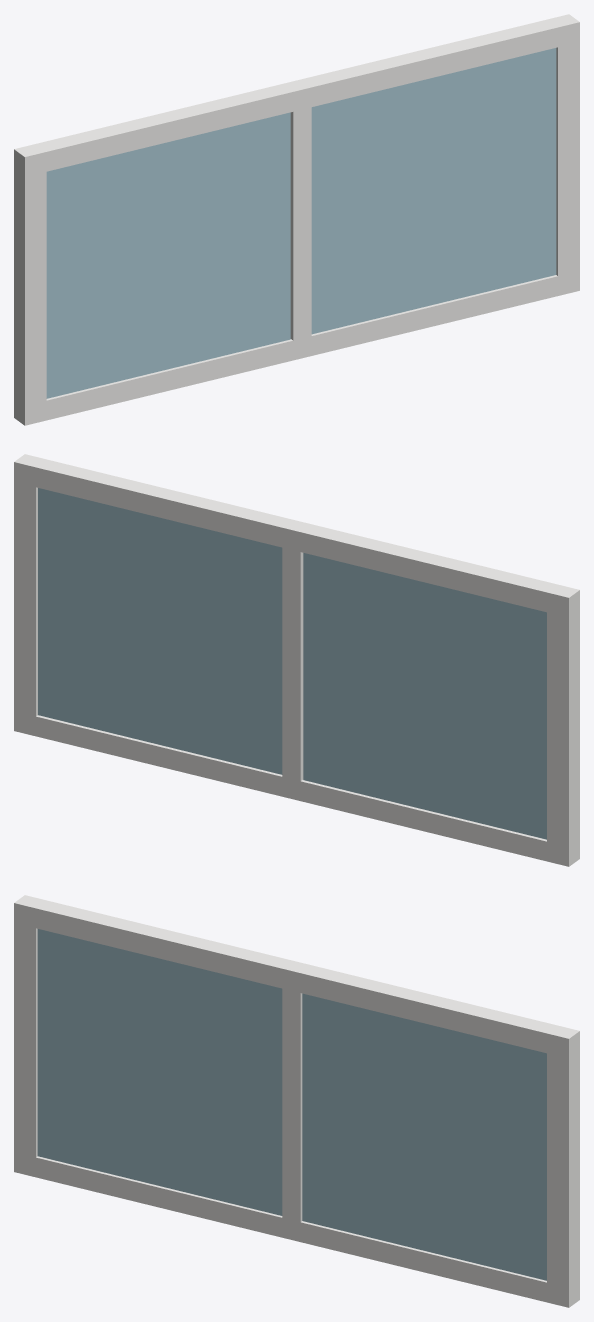
The model's file is Window_28.fbx.
The picture shows the model from 3 angles, top to bottom: view 1: azimuth 30°, elevation 25°; view 2: azimuth 150°, elevation 25°; view 3: azimuth 330°, elevation 25°; orthographic projection.
Visible parts, largest first — view 1: Window_28; view 2: Window_28; view 3: Window_28.
Part boxes in pixels (bbox=[...]): Window_28: bbox=[14, 14, 579, 425]; Window_28: bbox=[14, 454, 579, 866]; Window_28: bbox=[14, 895, 579, 1307].
Bounding box in the file's own units: 352 × 12.43 × 163.
